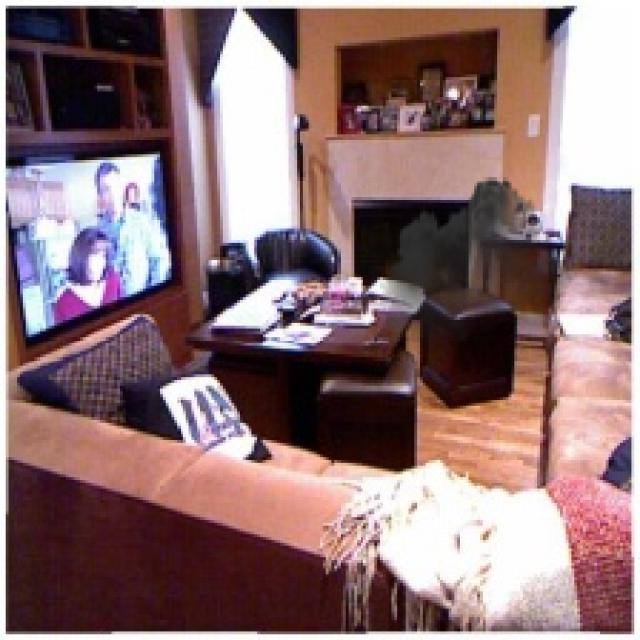smoke: (380, 169, 580, 374)
